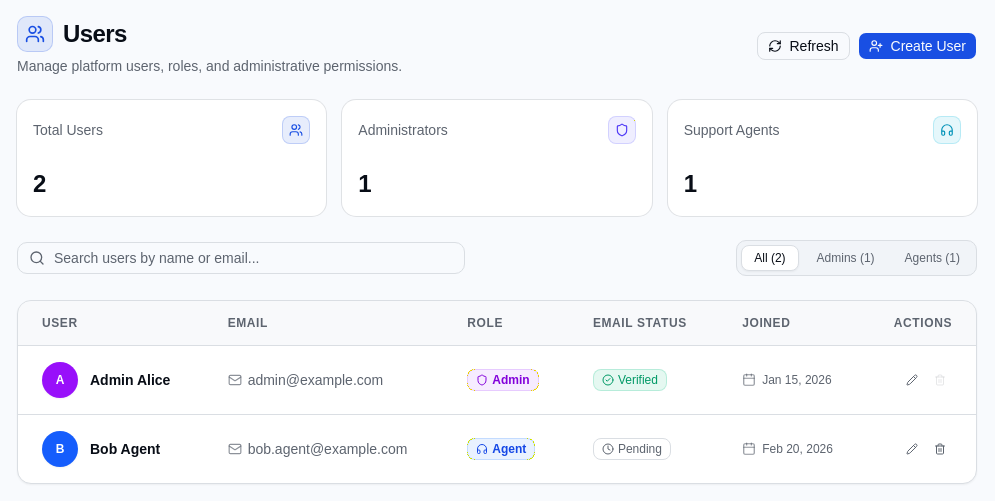
Test: UsersPage Component › 4. Role Filtering › filters to only support agents when clicking 'Agents' filter button
Check: the text "Bob Agent" is shown, box [90, 441, 160, 457]
Click the button "Agents (1)" at (932, 258), box [893, 246, 972, 270]
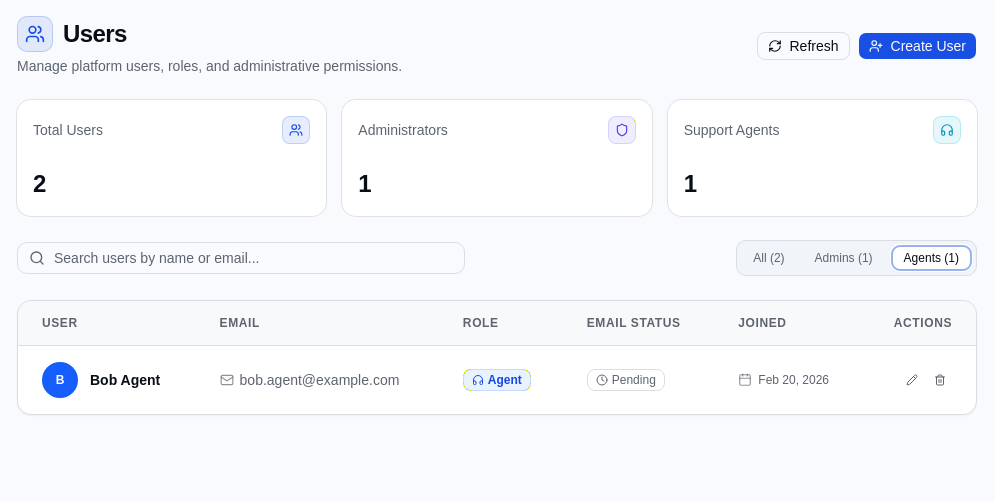
Check: the text "Bob Agent" is shown, box [90, 372, 160, 388]
Check: the text "Admin Alice" is gone
